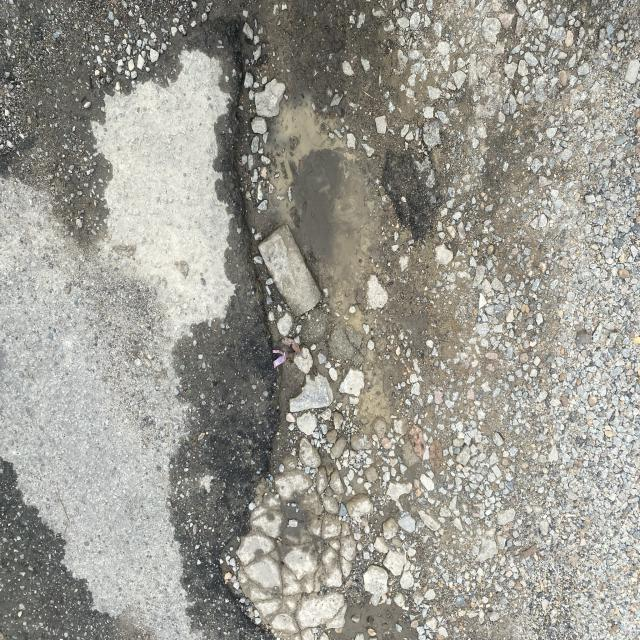pothole: (204, 66, 348, 552)
